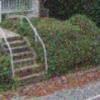stairs: (1, 34, 46, 89)
